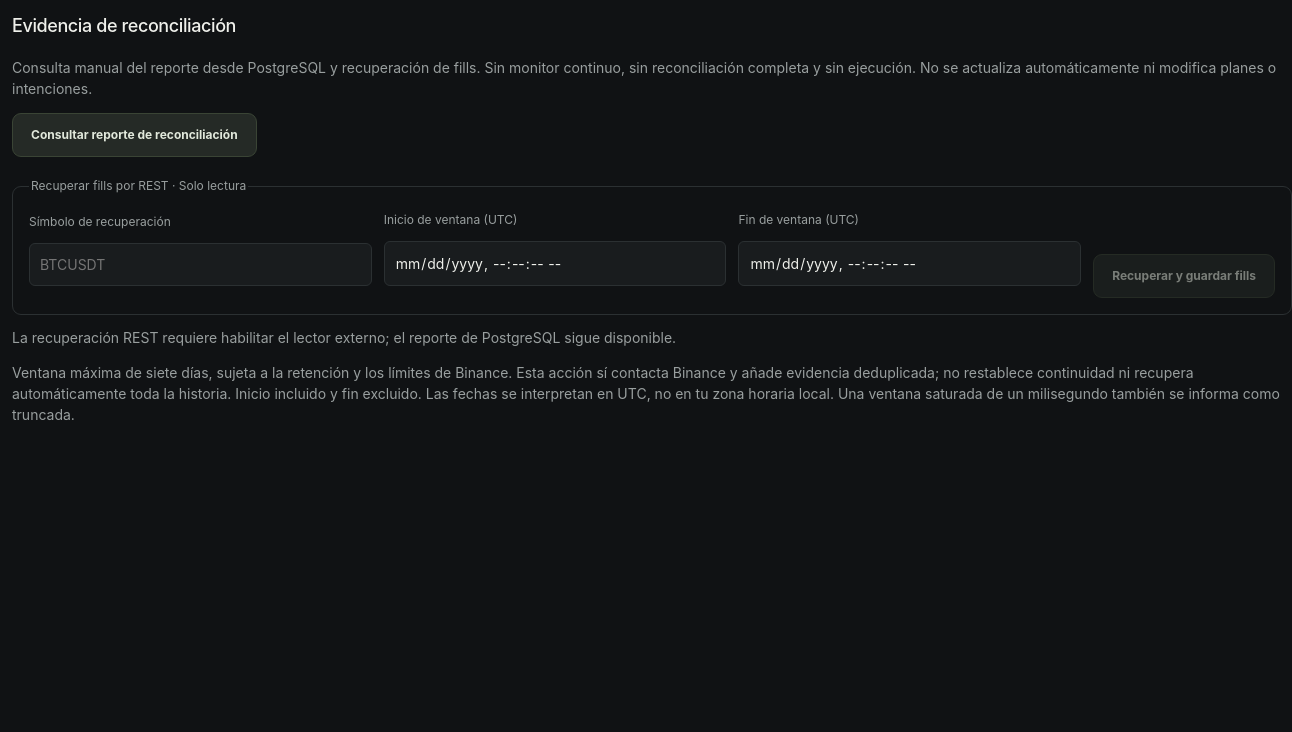
Test case: only requests a report explicitly, even with the external reader disabled
expect the button "Recuperar y guardar fills" is disabled: met, box 1093,254 -> 1275,298
Click the button "Consultar reporte de reconciliación": click(134, 135) 12,113 -> 257,157
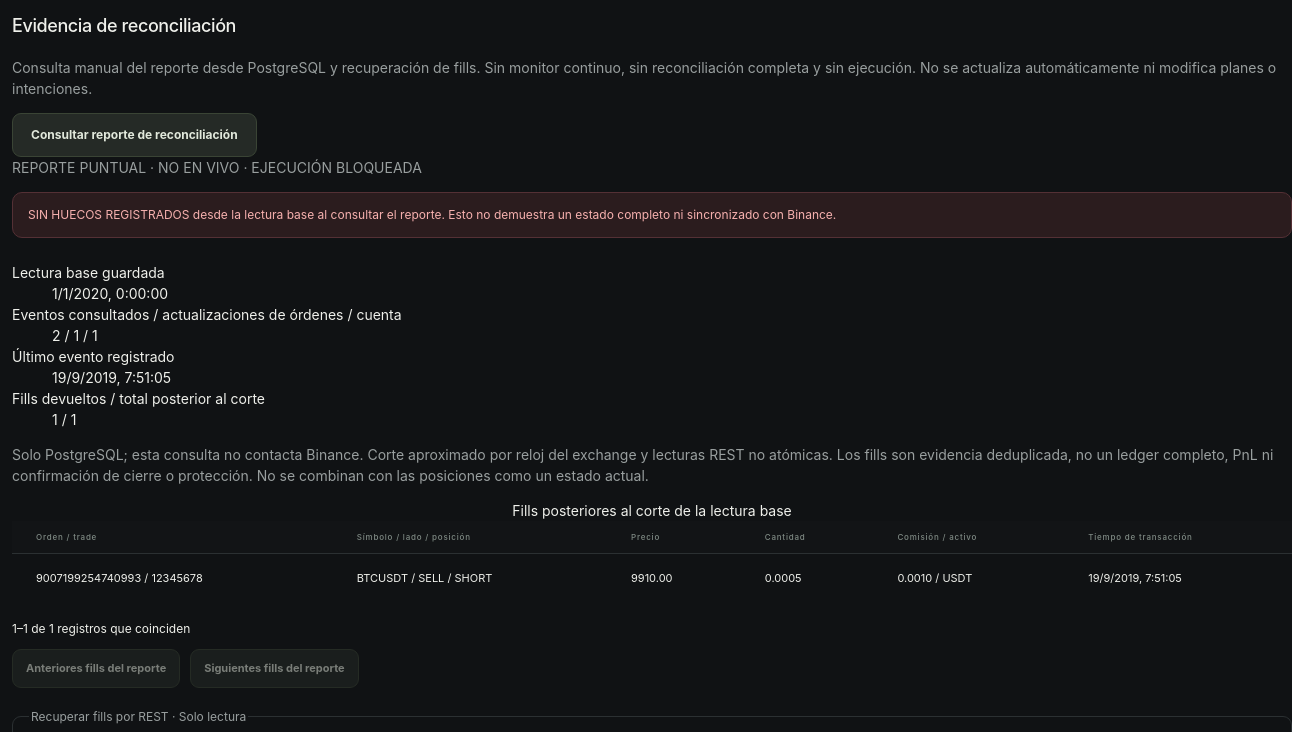
expect the text "REPORTE PUNTUAL · NO EN VIVO · EJECUCIÓN BLOQUEADA" is shown: met, box 12,159 -> 422,176
expect the text "SIN HUECOS REGISTRADOS" is shown: met, box 28,207 -> 836,222
expect the text "Solo PostgreSQL" is shown: met, box 12,446 -> 1273,484
